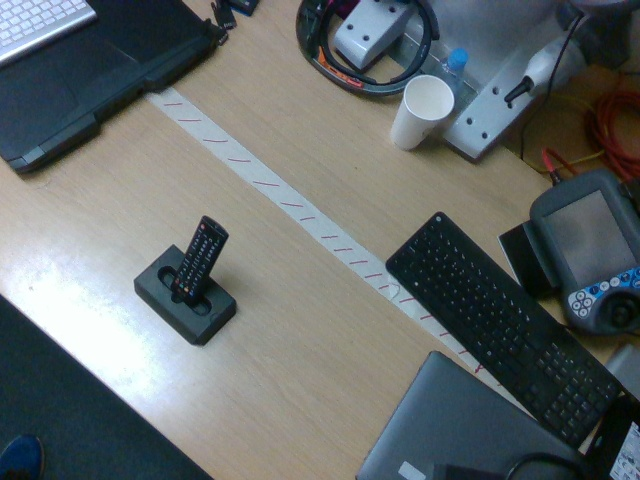remote: (171, 215, 229, 305)
